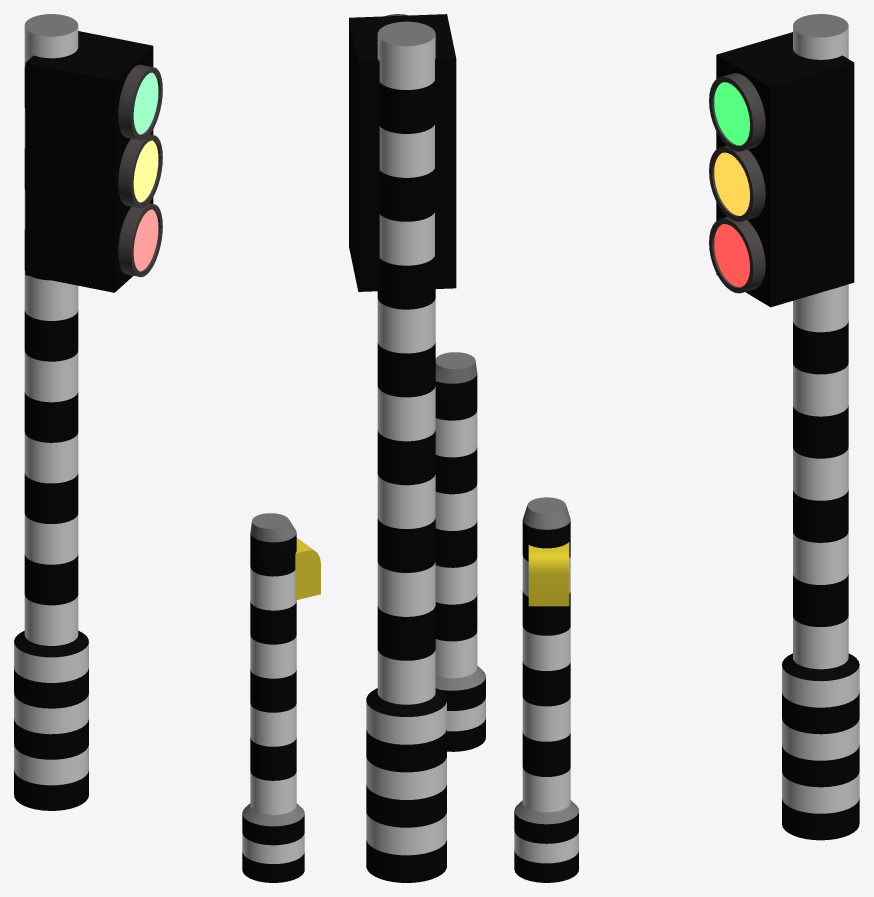
Rendered from D_bikes_light.fbx.
3 renders of one model, left to right at view 1: azimuth 30°, elevation 25°; view 2: azimuth 150°, elevation 25°; view 3: azimuth 270°, elevation 25°, orthographic. The views are drawn at different scales.
Visible parts, largest first — view 1: Cylinder.001, Cube.021, Cylinder.021, Cylinder.018, Cylinder.020, Cylinder.019, Cube.022; view 2: Cylinder.001, Cylinder.021, Cube.021; view 3: Cylinder.001, Cube.021, Cylinder.021, Cylinder.018, Cylinder.020, Cylinder.019, Cube.022.
Part boxes in pixels (box(x1,y1,x2,y2)): Cylinder.001: box(14, 14, 88, 810); Cube.021: box(25, 31, 153, 292); Cylinder.021: box(242, 513, 304, 882); Cylinder.018: box(118, 64, 162, 140); Cylinder.020: box(118, 203, 162, 277); Cylinder.019: box(118, 134, 162, 208); Cube.022: box(295, 538, 320, 600); Cylinder.001: box(366, 21, 446, 882); Cylinder.021: box(435, 352, 485, 751); Cube.021: box(349, 14, 456, 291); Cylinder.001: box(782, 14, 859, 840); Cube.021: box(716, 32, 854, 307); Cylinder.021: box(514, 497, 578, 882); Cylinder.018: box(709, 73, 765, 151); Cylinder.020: box(709, 217, 765, 293); Cylinder.019: box(709, 146, 765, 221); Cube.022: box(528, 542, 569, 606).
Size of the model in its own units: 58.43 by 261 by 102.
